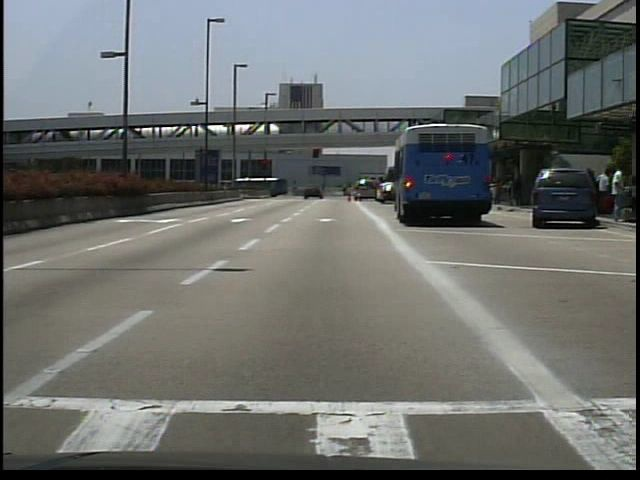person: (611, 163, 630, 221), (512, 172, 525, 207), (597, 167, 613, 191), (342, 183, 354, 198), (322, 184, 331, 200)
